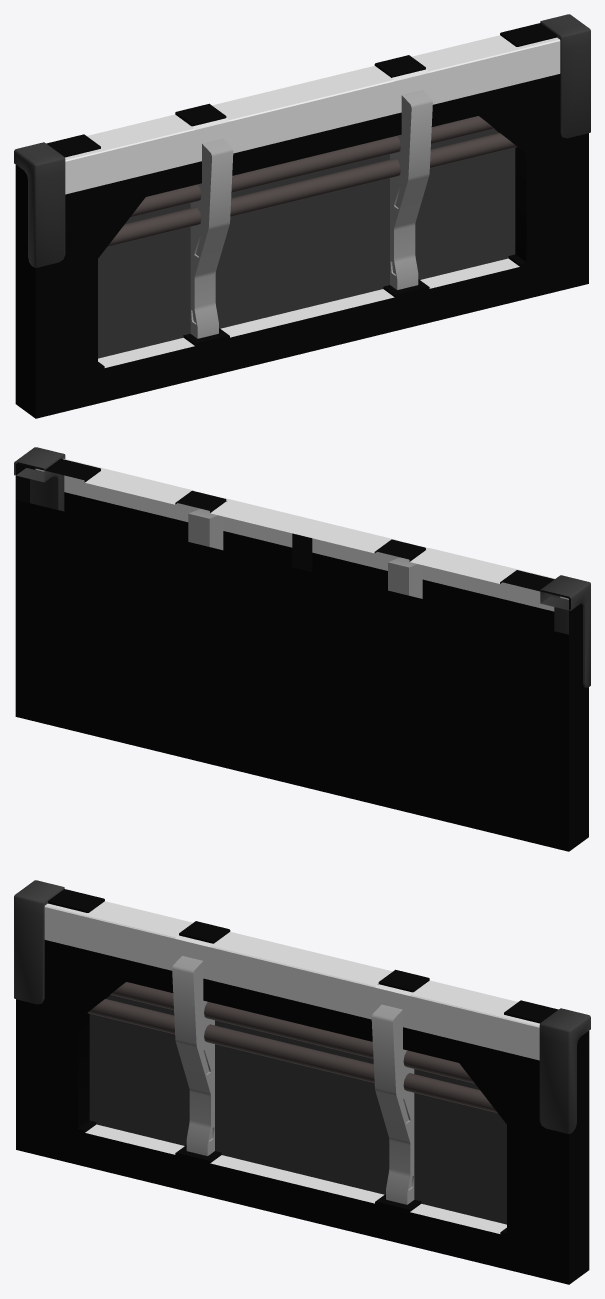
File: Mur.fbx
3 renders of one model, top to bottom at view 1: azimuth 30°, elevation 25°; view 2: azimuth 150°, elevation 25°; view 3: azimuth 330°, elevation 25°, orthographic.
Parts seen in each view (by area): view 1: Muret; view 2: Muret; view 3: Muret.
Boxes of the visible parts, <box> form: Muret: <box>14,14,590,418</box>; Muret: <box>14,447,590,851</box>; Muret: <box>14,880,590,1284</box>.
Size of the model in its own units: 403 by 176 by 37.69.
